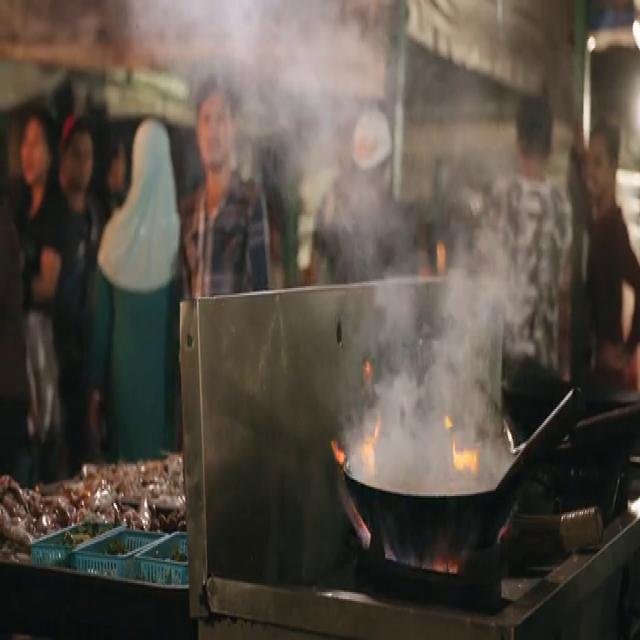smoke: (361, 234, 517, 484)
